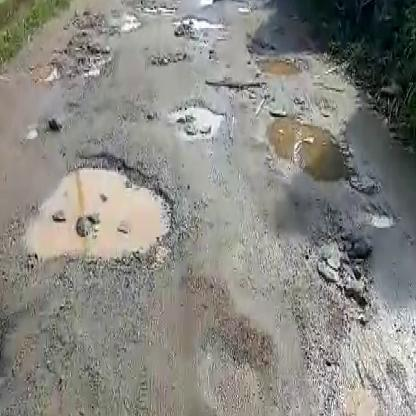pothole: (25, 146, 179, 275), (264, 114, 354, 187), (304, 228, 372, 319), (28, 33, 113, 89), (169, 100, 223, 141), (207, 75, 270, 100), (253, 56, 306, 80), (173, 15, 209, 40), (148, 50, 195, 67)
